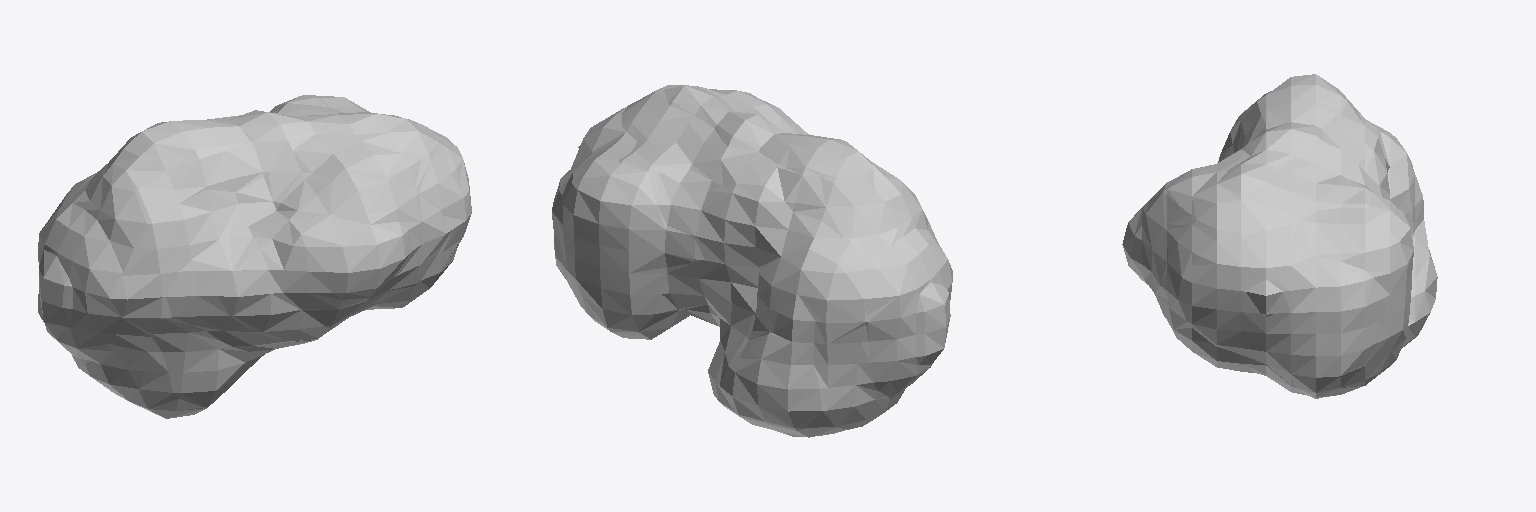
The model's file is 3aal_dimer_cms.obj.
3 renders of one model, left to right at view 1: azimuth 30°, elevation 25°; view 2: azimuth 150°, elevation 25°; view 3: azimuth 270°, elevation 25°, orthographic.
Bounding box in the file's own units: 95.84 × 64.39 × 66.59.